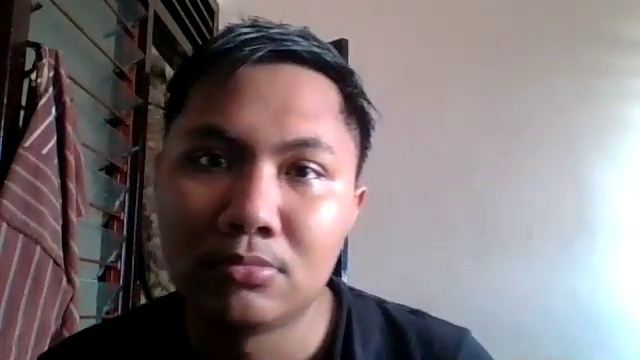Not Distracted: (148, 78, 363, 315)
